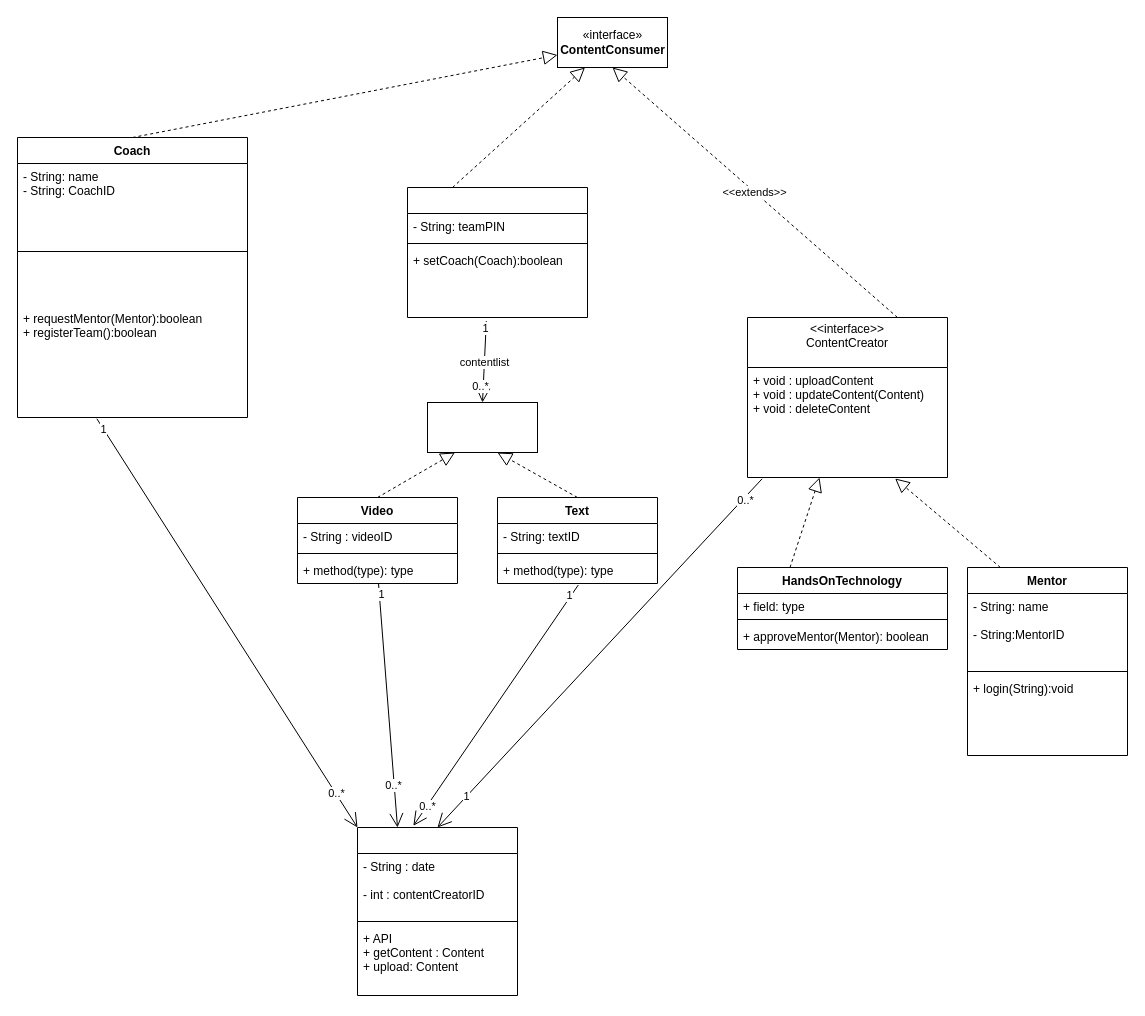
Image size: 1145x1016. Some labels were removed from this diagram. The shapes that lost their labels are listed below. From the top down, each one's box as (x1, y1, x2, y2) in pixels, then its label:
(406, 186, 588, 318): TeamView
(426, 402, 538, 452): «interface» Content
(356, 826, 518, 996): S3 Bucket
